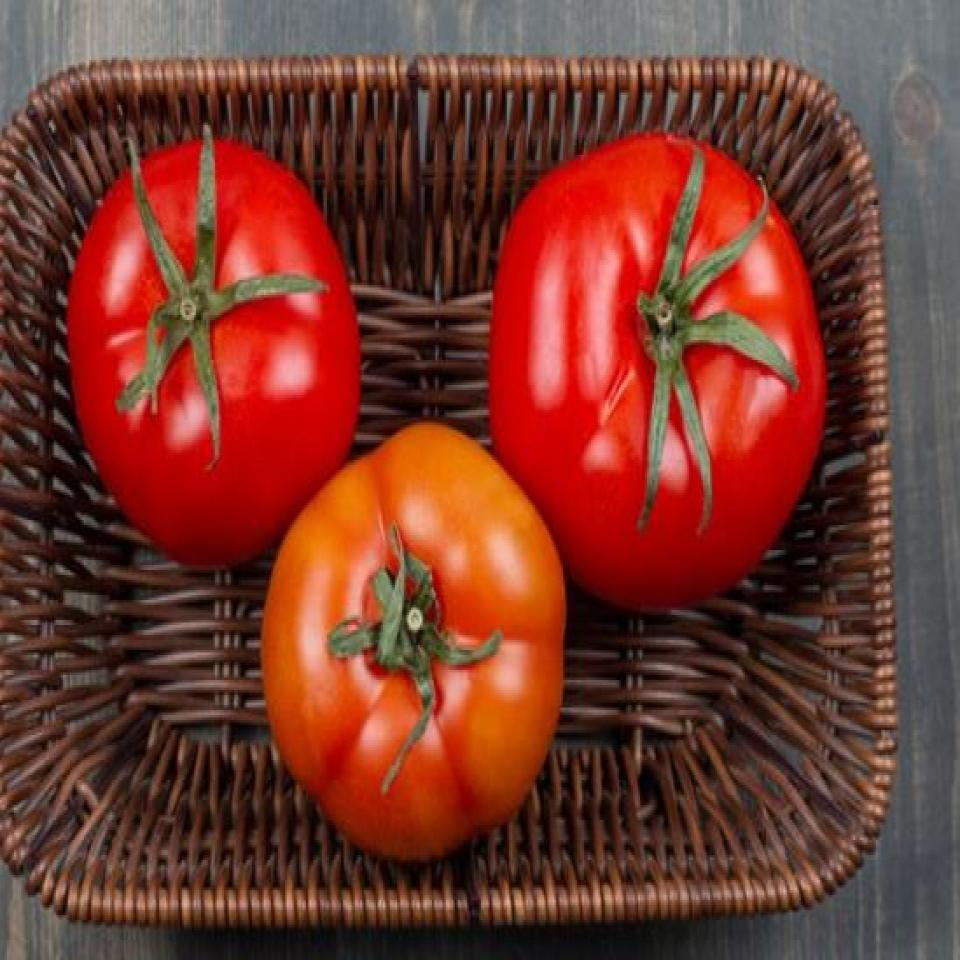Healthy: (480, 116, 845, 620), (260, 410, 545, 849), (58, 129, 353, 506)
